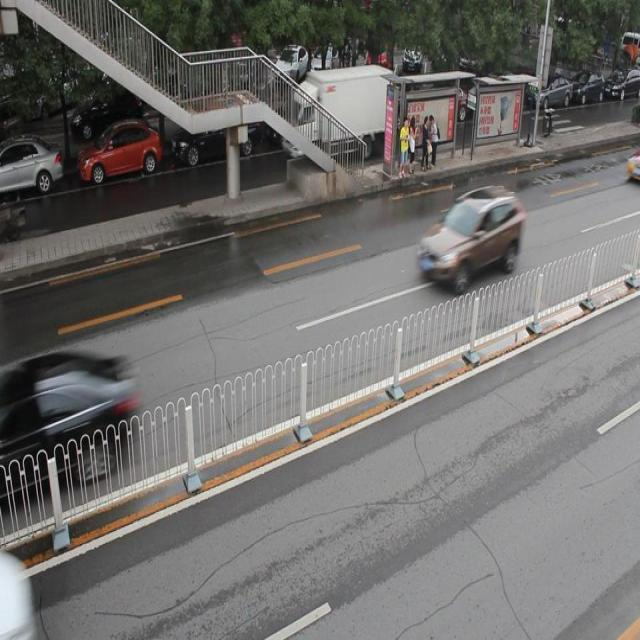bus: (288, 64, 398, 160)
car: (11, 352, 137, 492), (416, 190, 524, 290), (173, 106, 265, 170), (79, 121, 162, 184), (268, 84, 333, 148), (1, 137, 65, 198), (341, 81, 407, 138)
